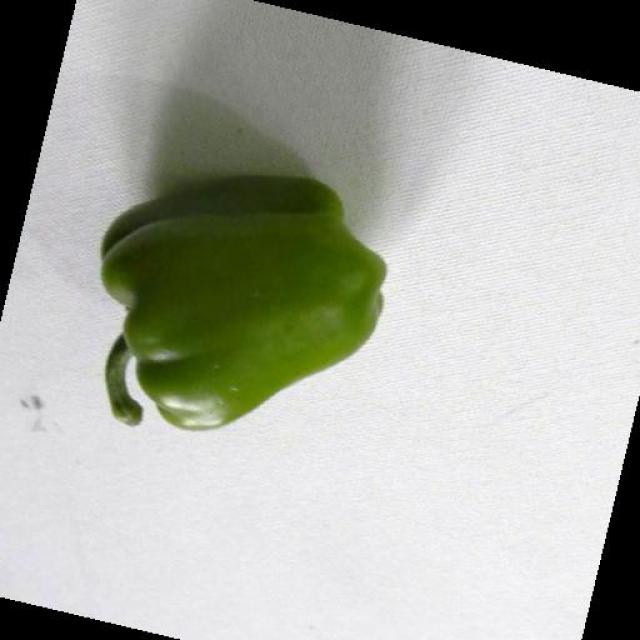Fresh_Capsicum: (88, 226, 350, 399)
